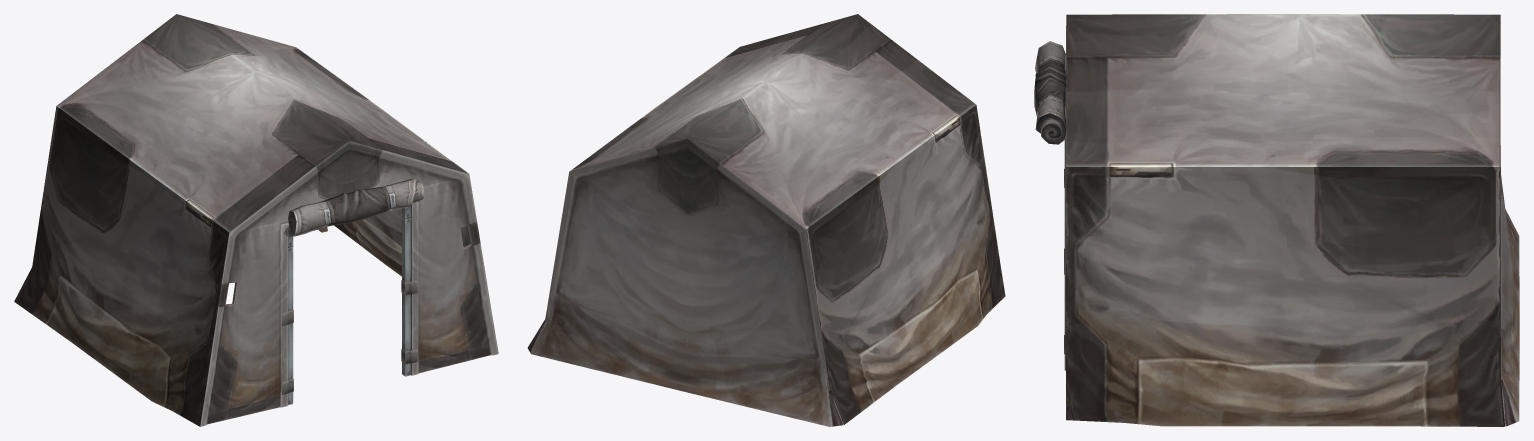
Rendered from all_arch_neu_tent_medium.glb.
3 views of the same model, side by side, from view 1: azimuth 30°, elevation 25°; view 2: azimuth 150°, elevation 25°; view 3: azimuth 270°, elevation 25° (orthographic). The views are drawn at different scales.
Parts seen in each view (by area): view 1: all_arch_neu_tent_medium; view 2: all_arch_neu_tent_medium; view 3: all_arch_neu_tent_medium.
Part boxes in pixels (x1=…): all_arch_neu_tent_medium: x1=14, y1=14, x2=498, y2=426; all_arch_neu_tent_medium: x1=527, y1=14, x2=1005, y2=426; all_arch_neu_tent_medium: x1=1034, y1=14, x2=1519, y2=426.
Bounding box in the file's own units: 1.09 × 0.8089 × 1.13.
1 material, 1 textured.
